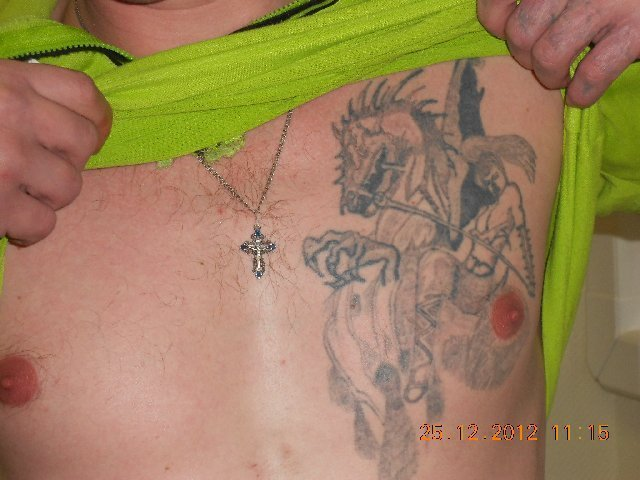tatu6_drakon: (303, 52, 541, 424)
